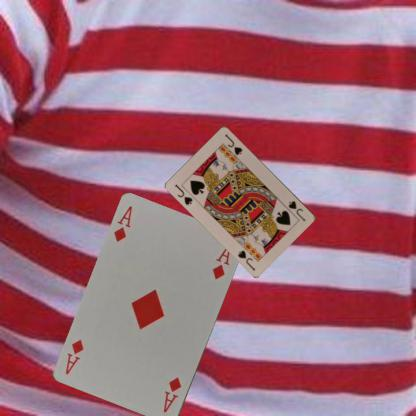Ad: (161, 374, 183, 414), (111, 204, 133, 244)
Js: (172, 182, 194, 206), (286, 198, 307, 223)
